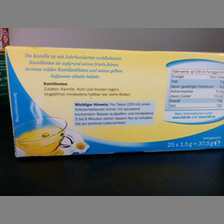tea: (5, 45, 224, 160)
